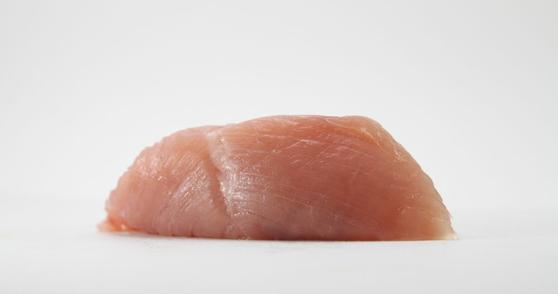chicken_fillet: (96, 112, 457, 243)
